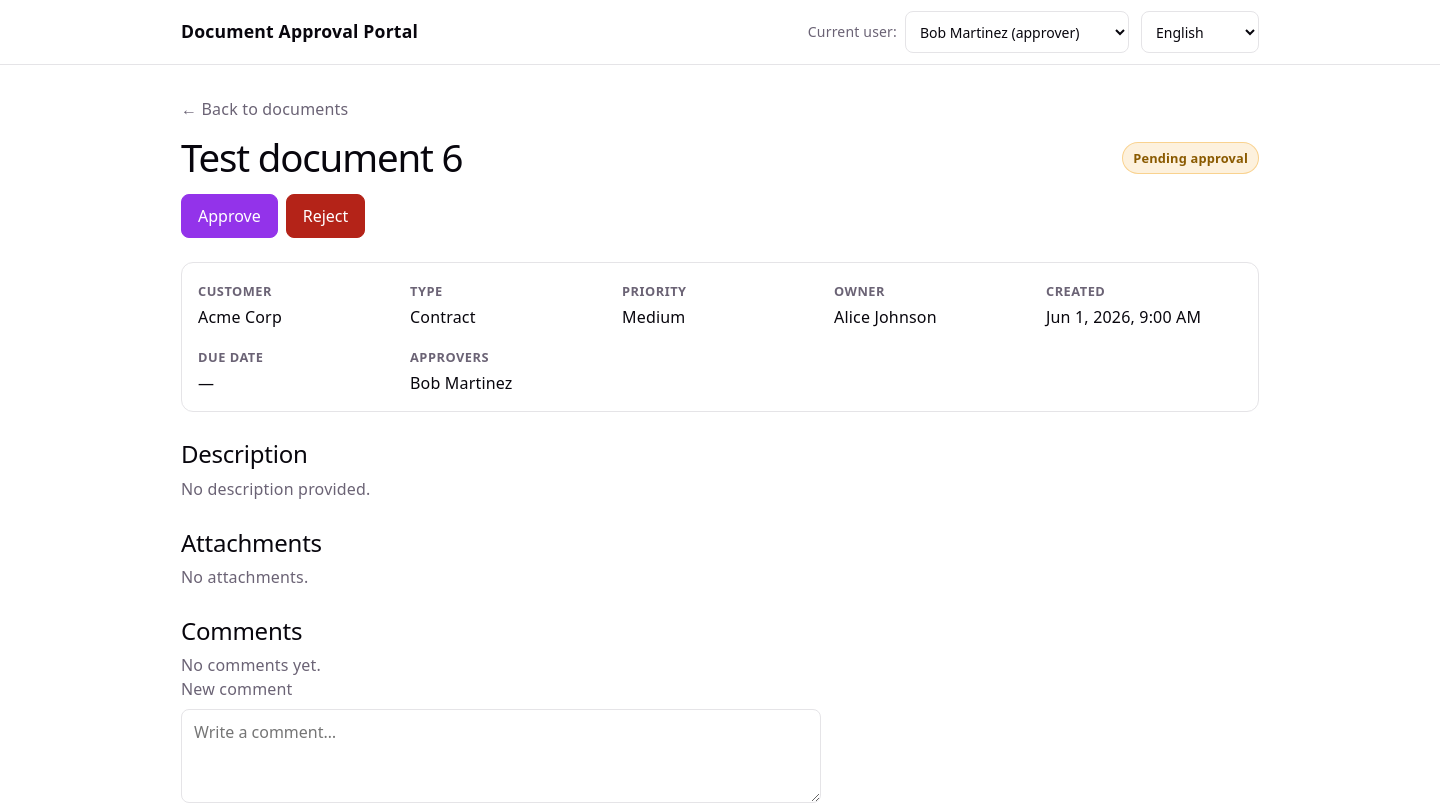
Test: rejecting a document › keeps the dialog and the typed reason when the server fails
Click the button "Reject".
click(326, 216)  # box [286,194,365,238]
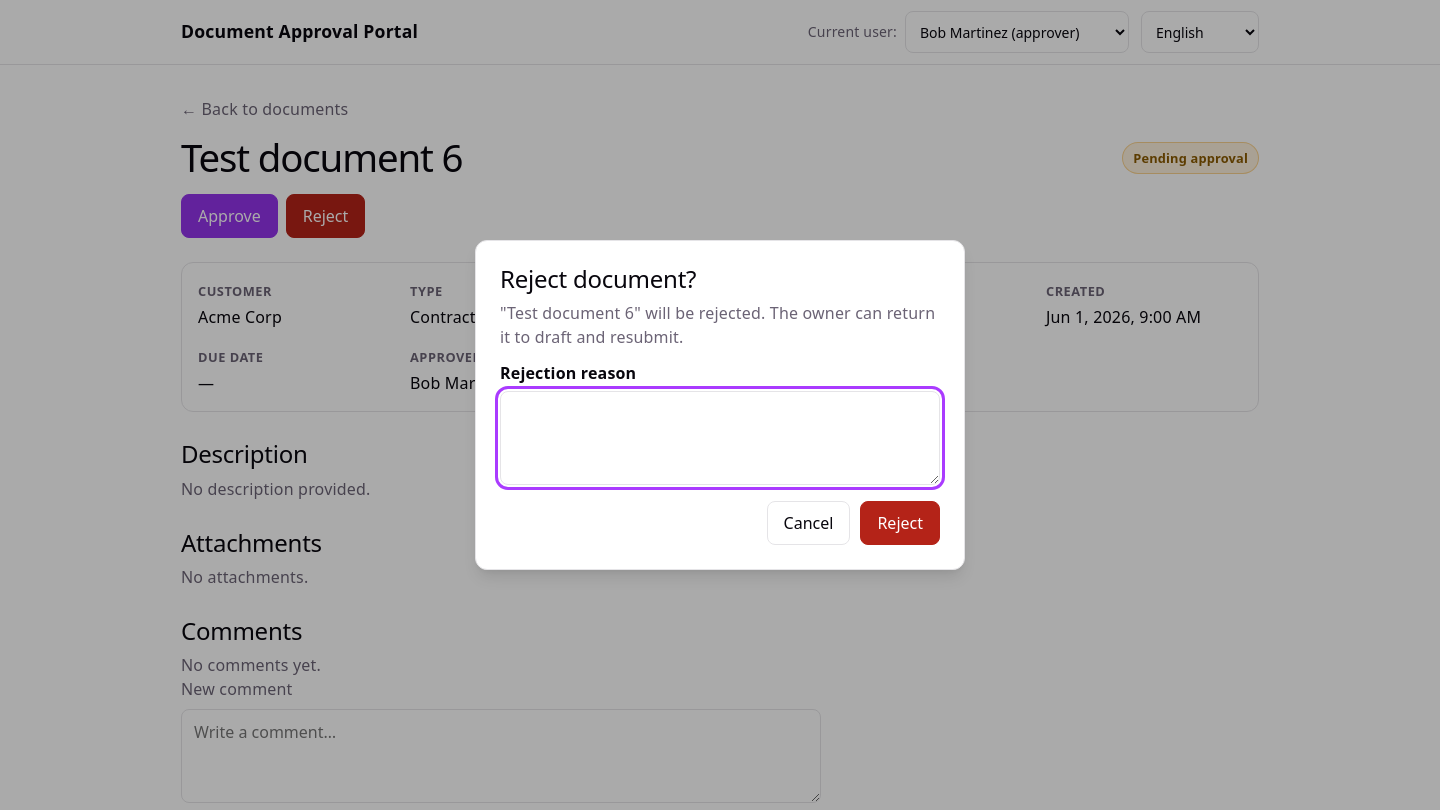
Type "My reason" into the text box.
click(720, 438); type("My reason")  # box [500,391,940,485]
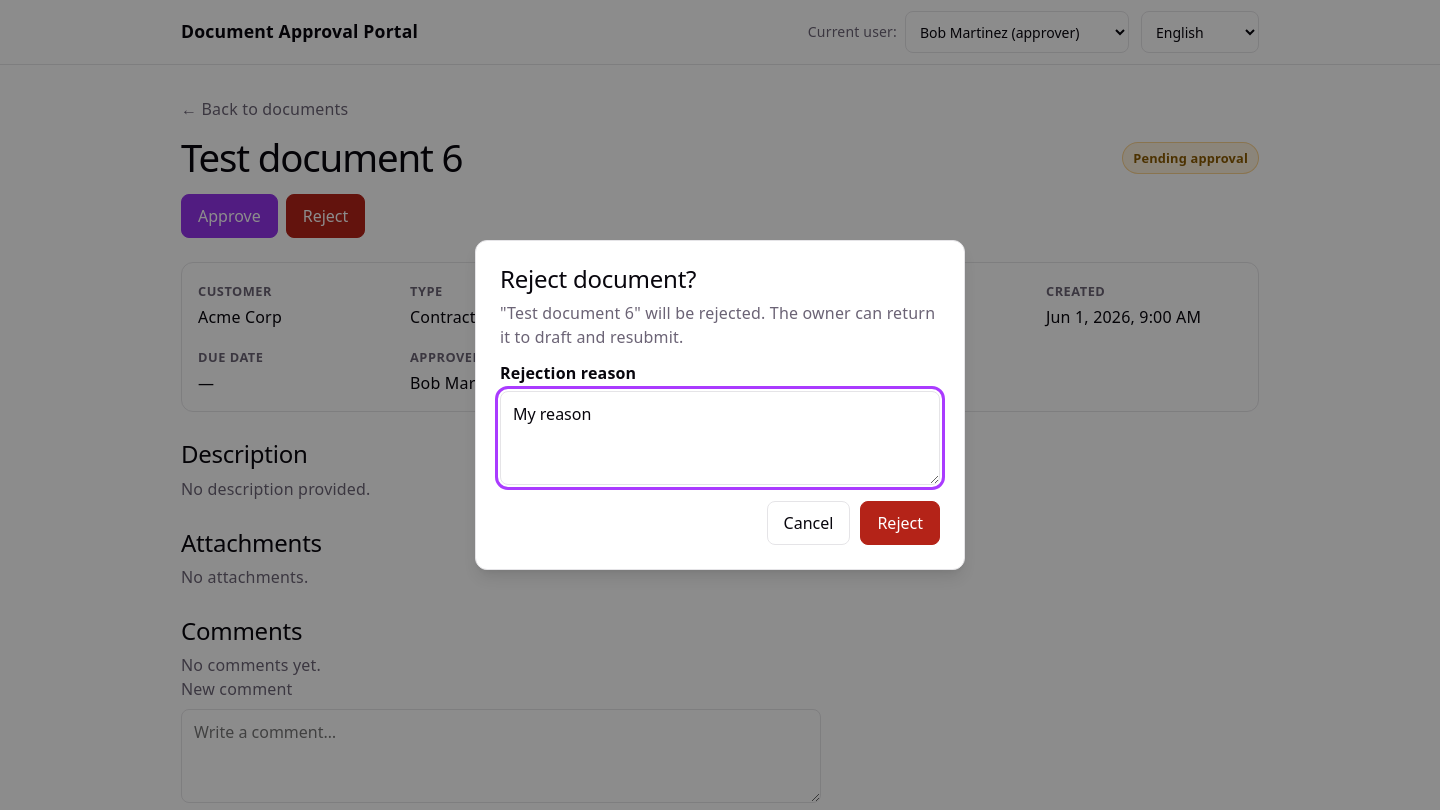
Click the button "Reject".
click(900, 523)  # box [860,501,940,545]
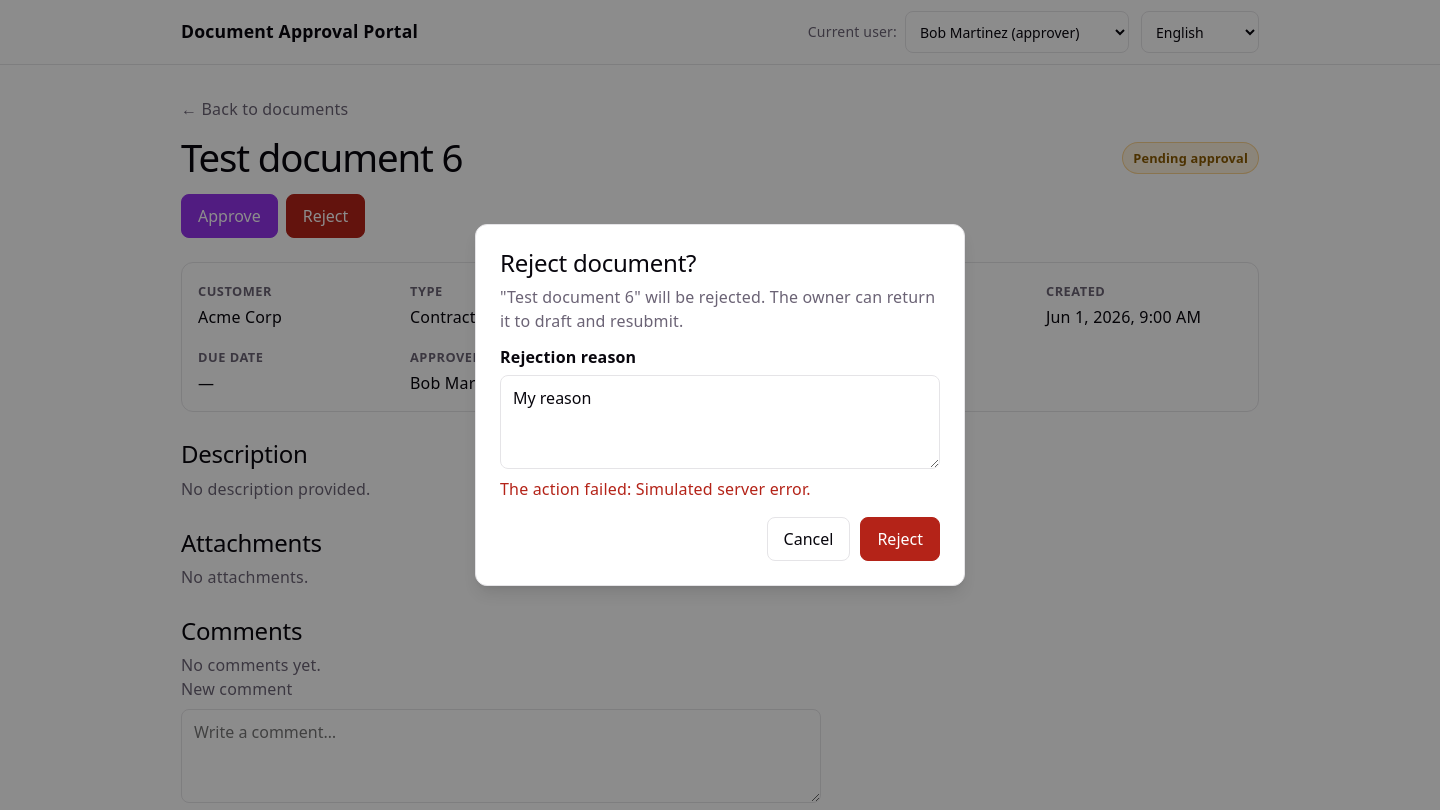
Check: the message shows "Simulated server error.", box [500,478,811,500]
